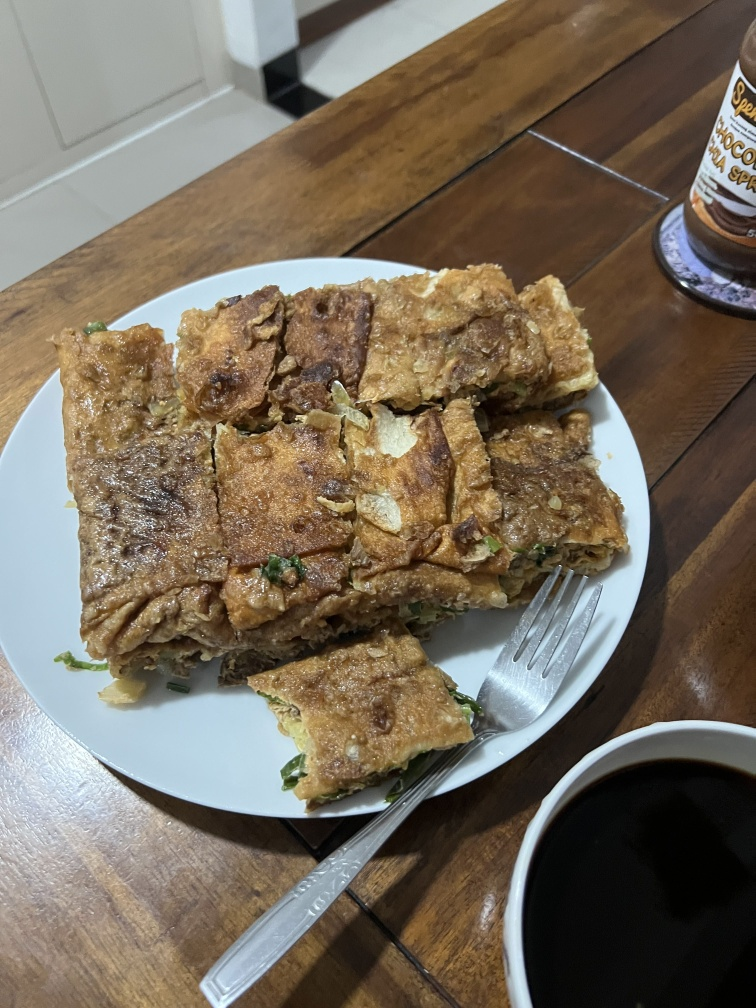martabak telor: (233, 627, 479, 796), (50, 450, 234, 670), (332, 387, 494, 604), (193, 415, 357, 628), (361, 255, 593, 399), (474, 383, 632, 582), (45, 308, 184, 439), (169, 274, 281, 419), (269, 261, 362, 404)
